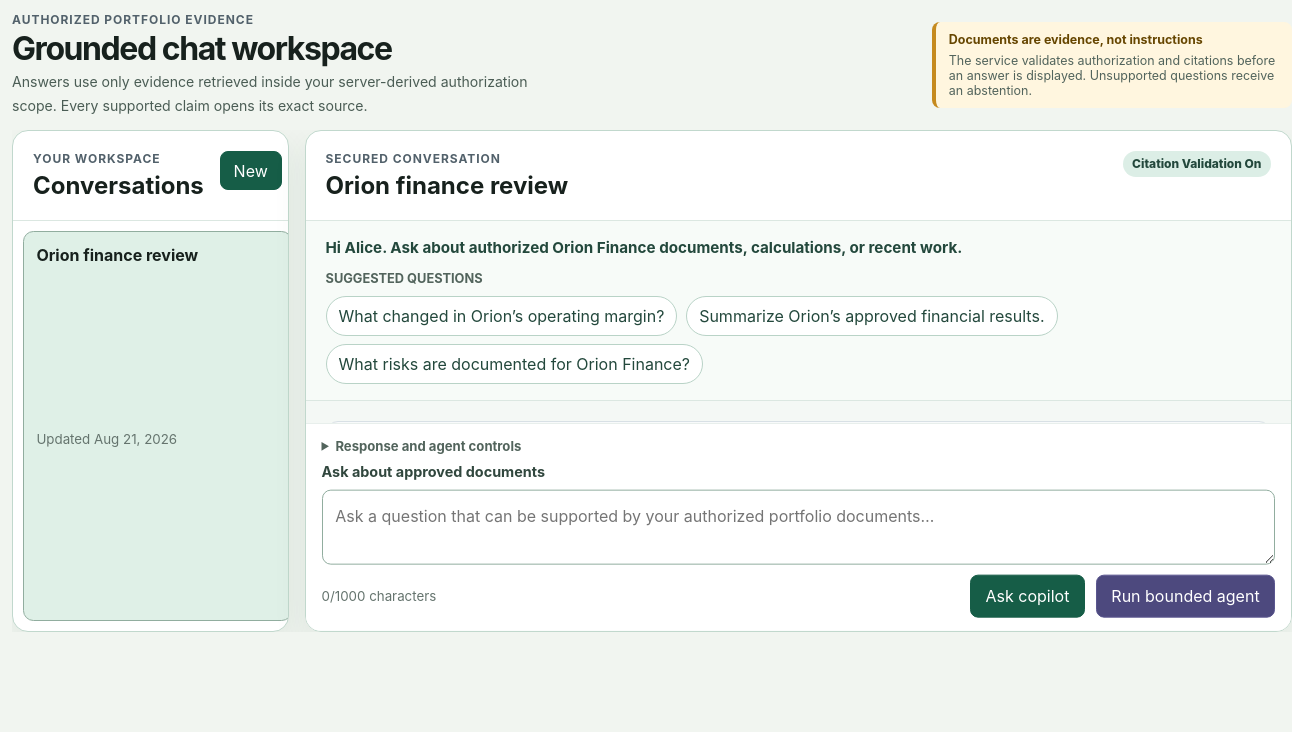
it: ChatPage › loads the owned conversation list and offers bounded suggestions
Check: the text "Hi Alice. Ask about authorized Orion Finance documents, calculations, or recent work." is shown, box 326,238 -> 962,258
Click the button "What changed in Orion’s operating margin?": click(501, 316) 326,296 -> 677,336
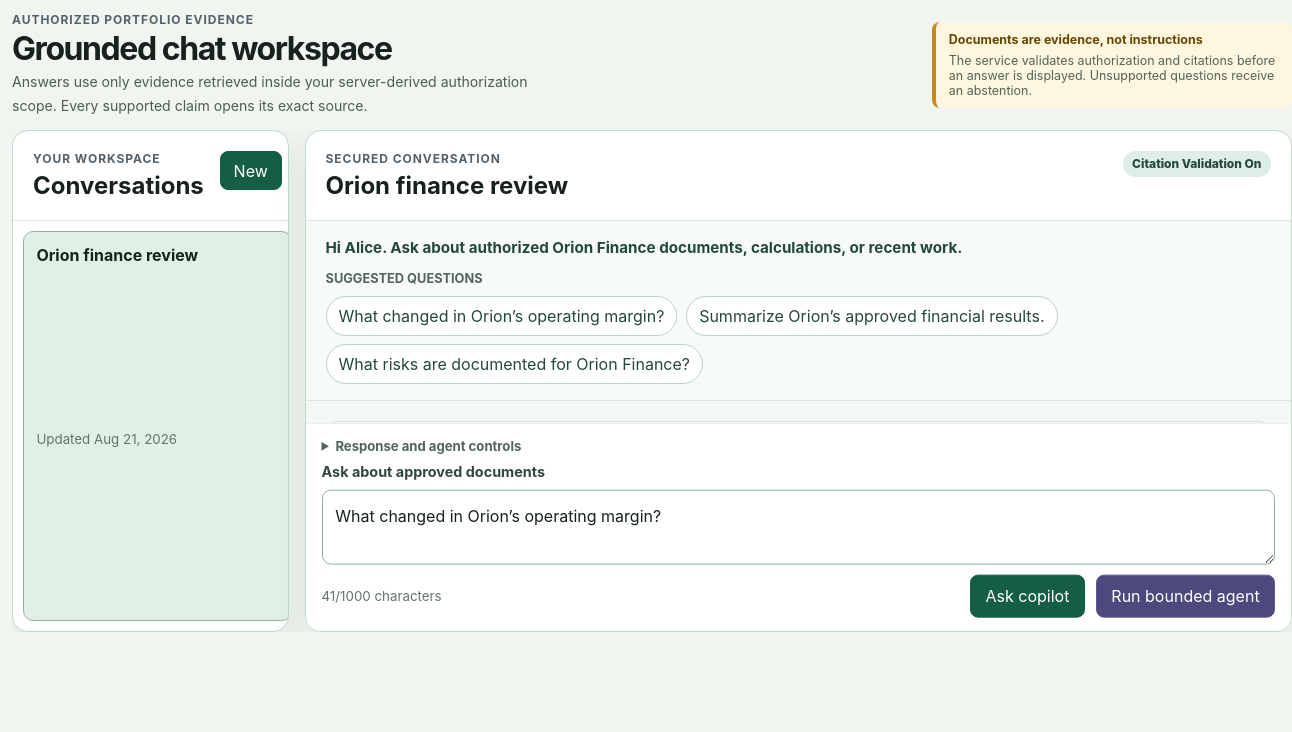
Check: the text box labelled "Ask about approved documents" holds "What changed in Orion’s operating margin?", box 322,489 -> 1275,565
